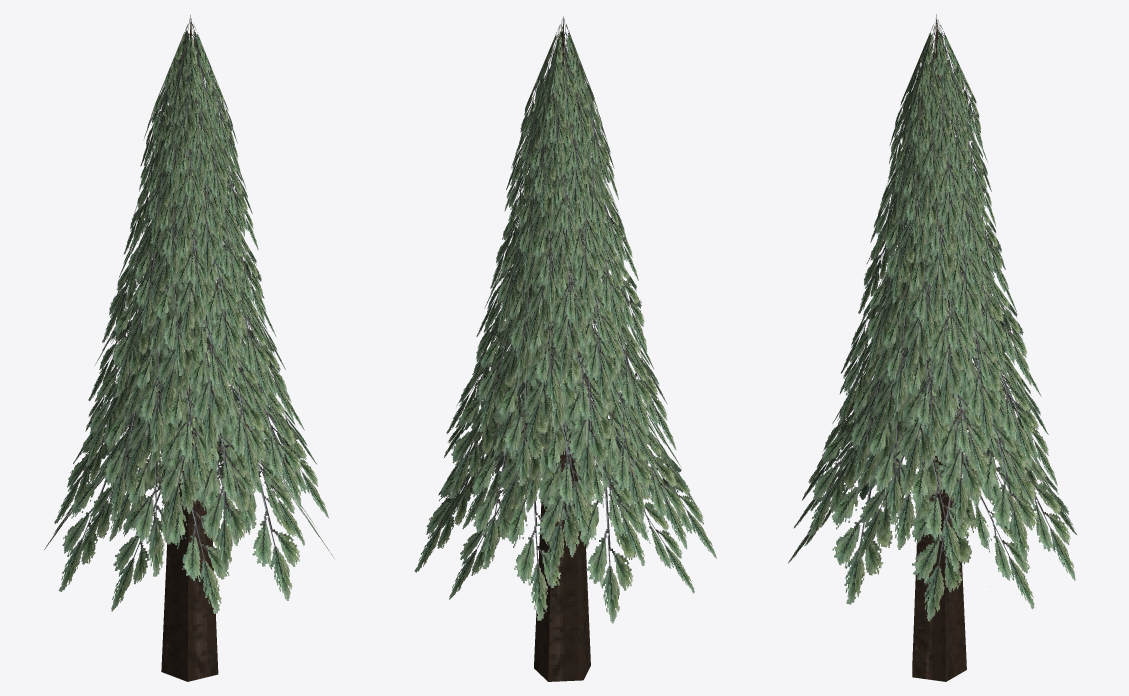
Rendered from pino1.glb.
3 views of the same model, side by side, from view 1: azimuth 30°, elevation 25°; view 2: azimuth 150°, elevation 25°; view 3: azimuth 270°, elevation 25° (orthographic).
Parts seen in each view (by area): view 1: pino; view 2: pino; view 3: pino.
Part boxes in pixels (x1,y1,x2,y2): pino: (44, 15, 334, 681); pino: (414, 16, 716, 681); pino: (788, 14, 1077, 681).
Bounding box in the file's own units: 5.62 × 12 × 5.76.
2 materials, 2 textured.
